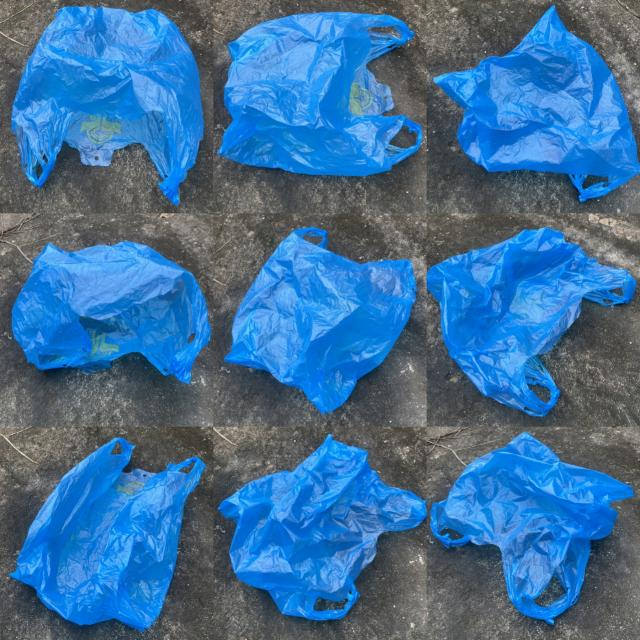Single-layer Plastic: (434, 6, 640, 202), (428, 228, 636, 416), (430, 432, 634, 623), (219, 435, 426, 620), (11, 6, 204, 204), (11, 438, 205, 629), (225, 228, 416, 414), (219, 12, 421, 176), (12, 241, 210, 382)
